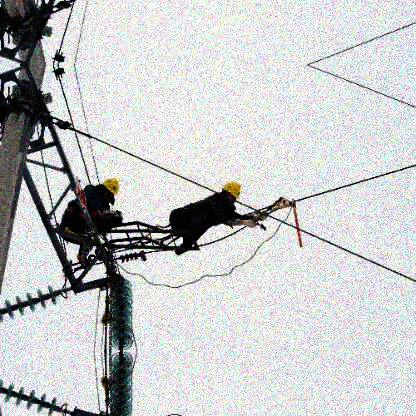helmet: (221, 179, 241, 205), (101, 176, 119, 198)
